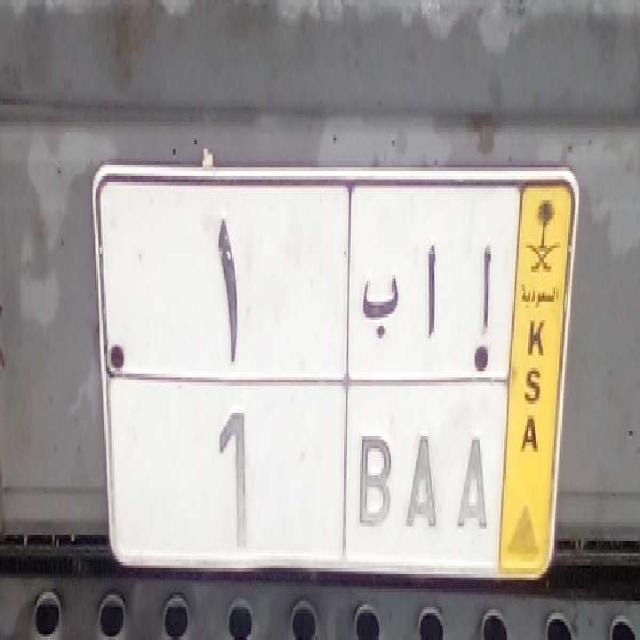license_plate: (105, 371, 504, 584)
